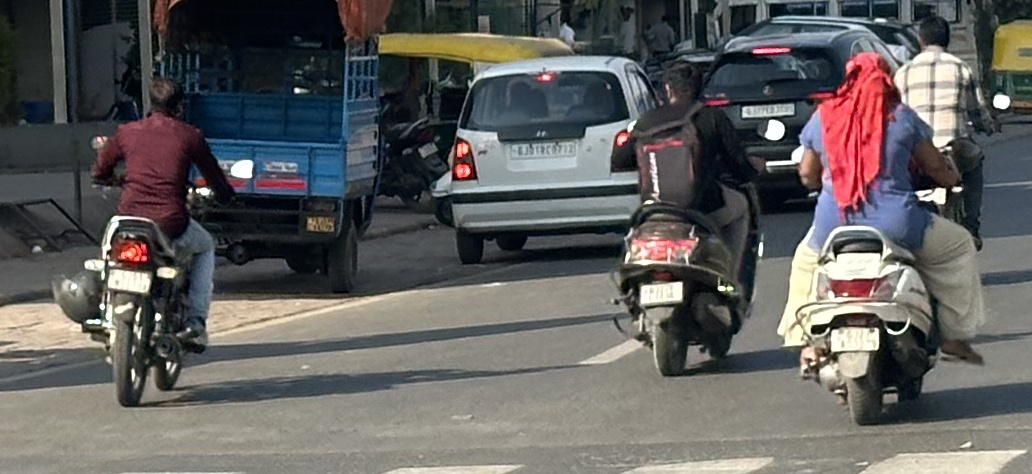BikeWithRider: (761, 44, 994, 433), (49, 68, 259, 413), (594, 53, 777, 381), (888, 8, 1015, 258)
NoHelmet: (834, 47, 903, 113), (138, 69, 195, 125), (653, 55, 709, 111), (907, 10, 959, 56)
